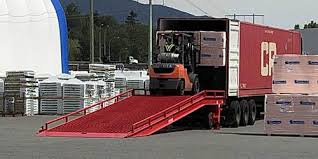Pallet Jack: (147, 30, 206, 96)
Yard Ramp: (33, 87, 227, 137)
